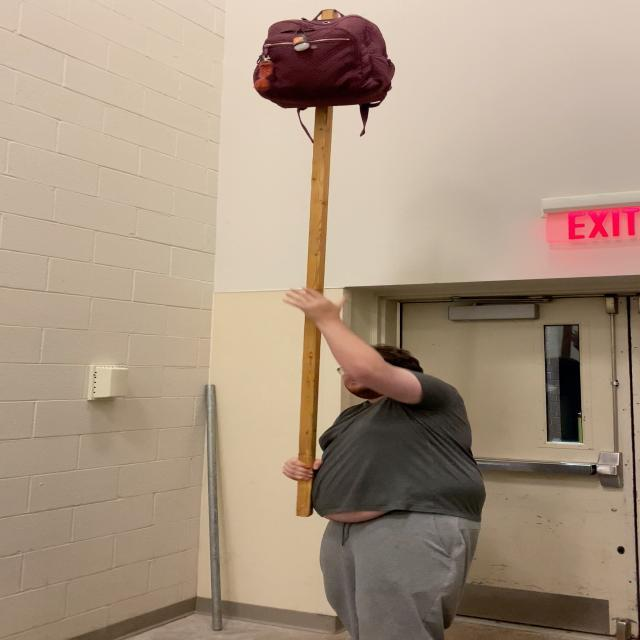Backpacks: (244, 2, 414, 114)
